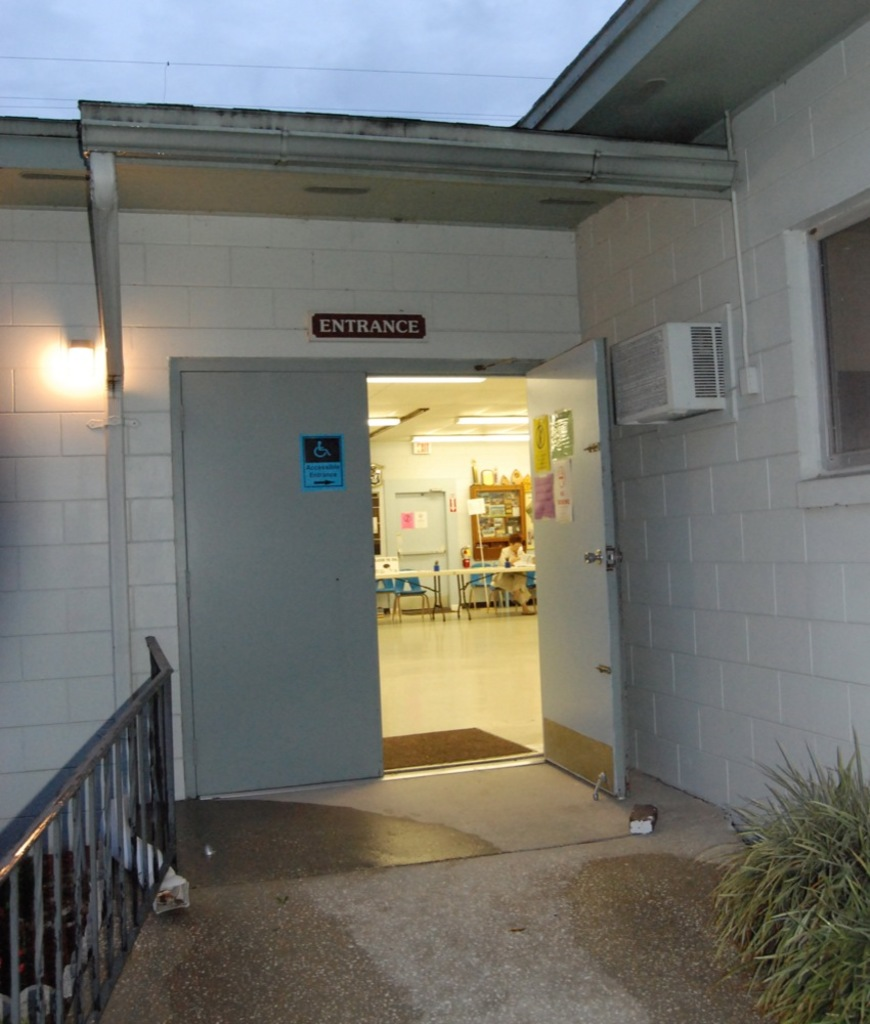door: (196, 377, 370, 788), (533, 387, 613, 788)
handle: (584, 542, 604, 575)
